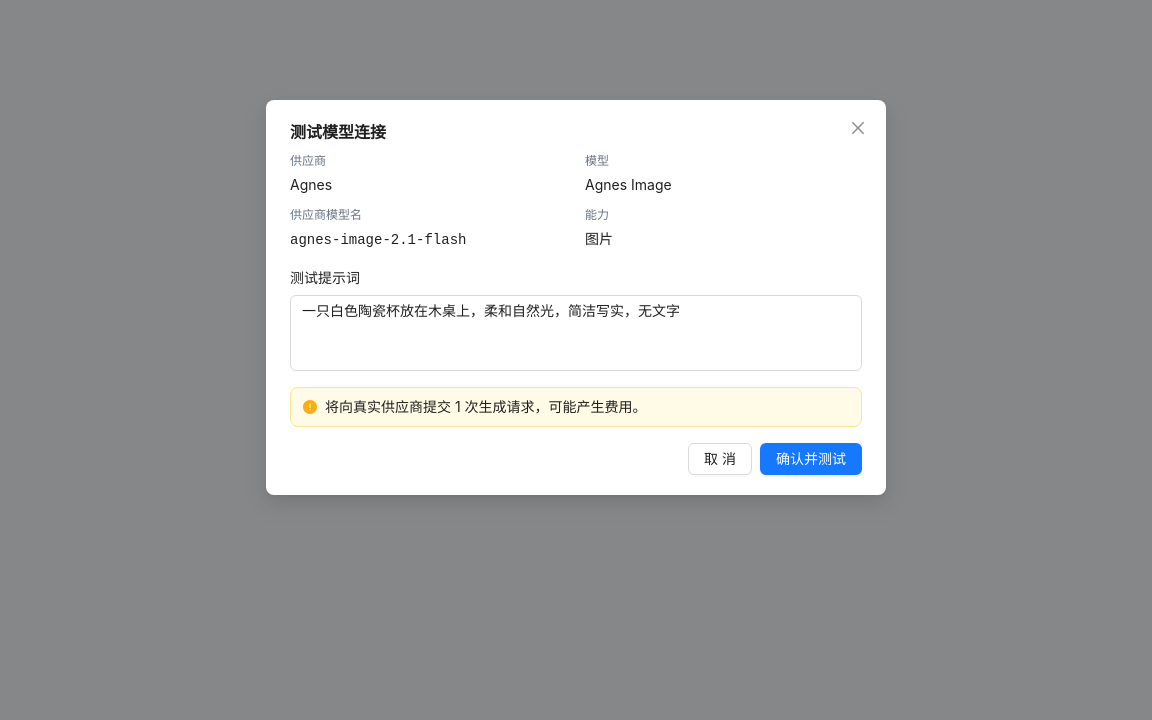
Test: model test dialog › recovers a lost create response with the original idempotency key
This screenshot has width=1152, height=720.
Click the button "确认并测试": point(811, 459) [760,443,862,475]
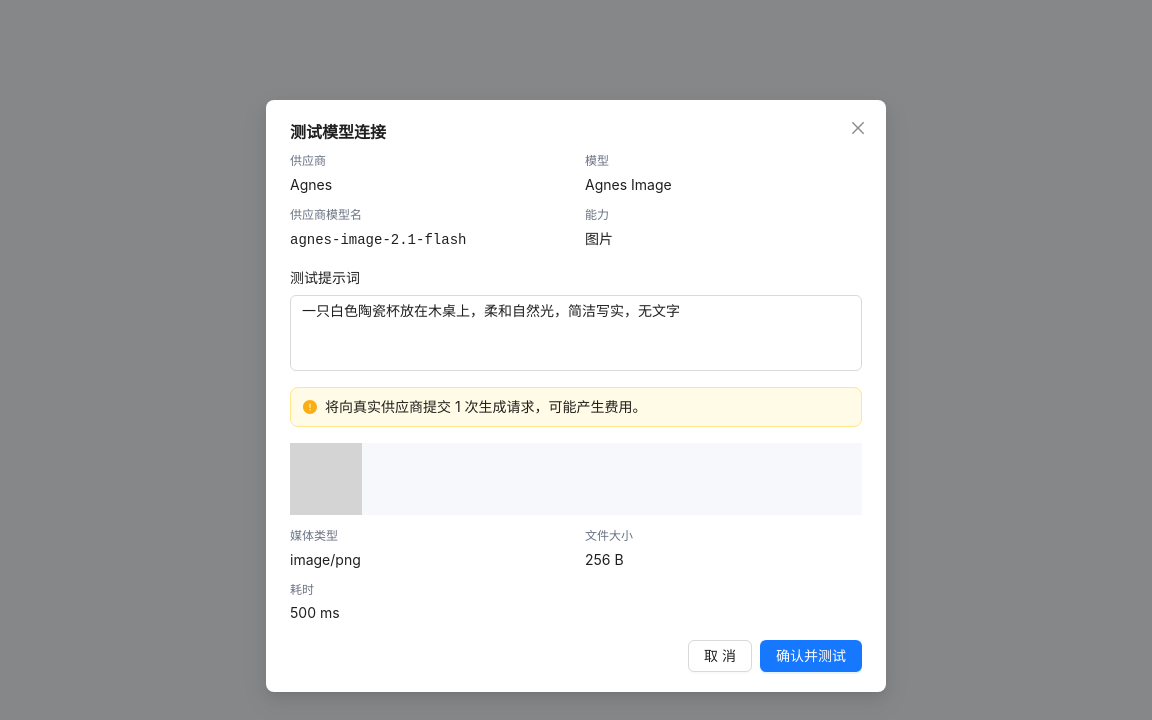
Now the text "image/png" is shown, box [290,550,361,568]
